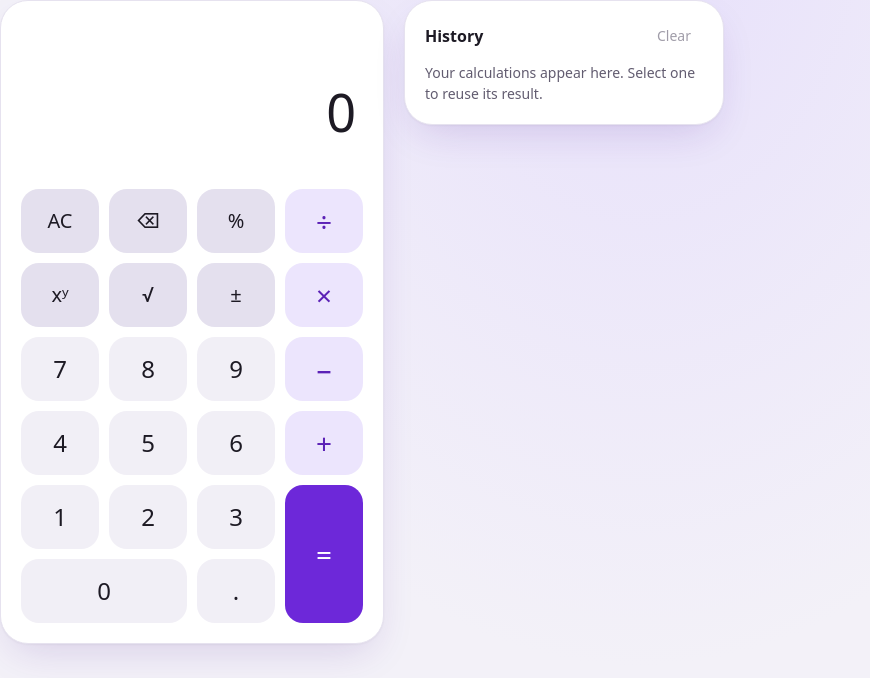
Test case: Calculator › cancels a calculation in flight on AC
Type keys "8*8="
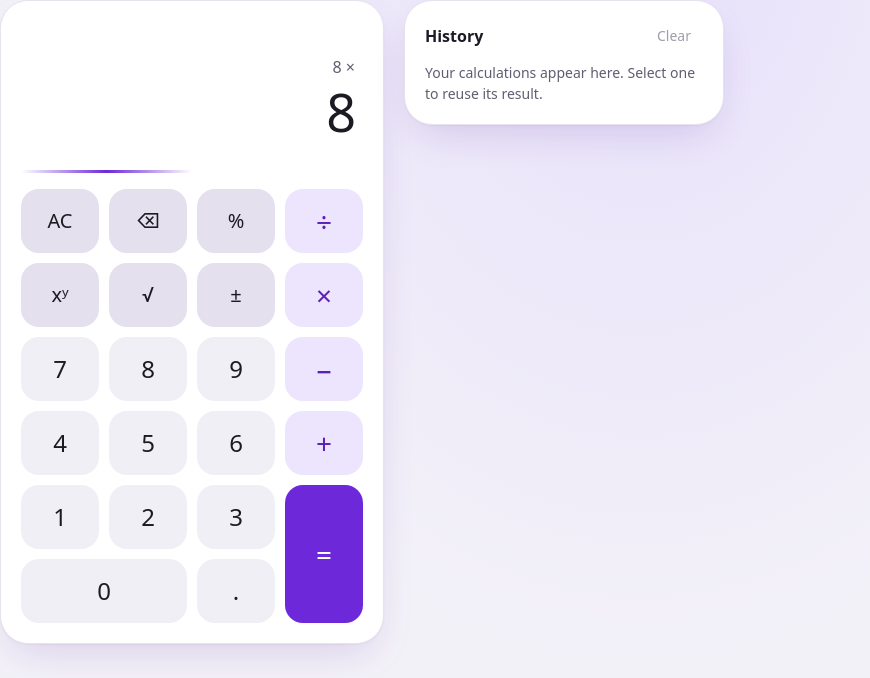
Click the button "AC" at point(60, 221), box [21, 189, 99, 253]
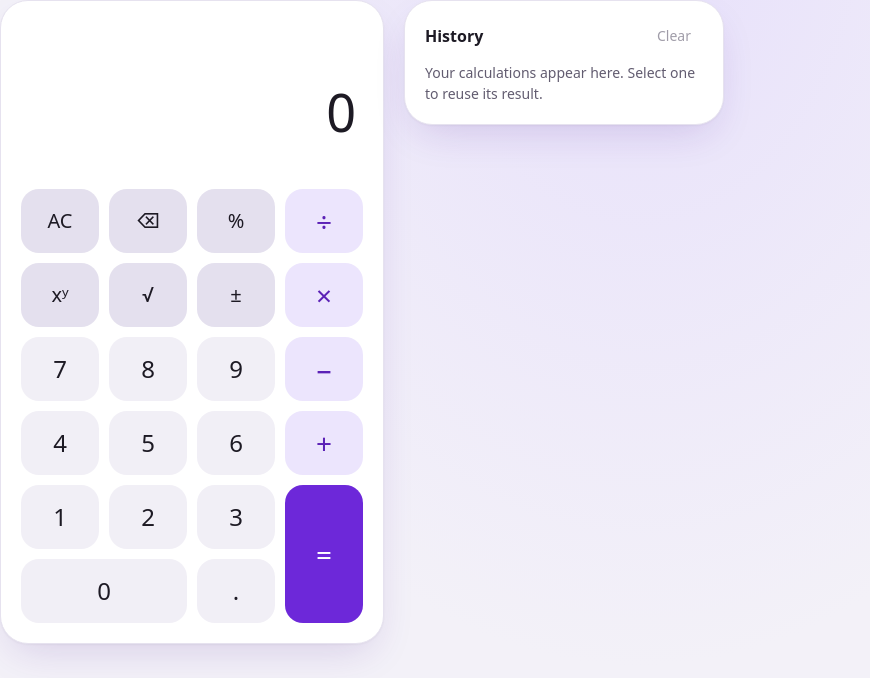
Expected: the text "Your calculations appear here" is shown, [425, 63, 695, 103]
Now the text "0" is shown, box [326, 83, 355, 140]
